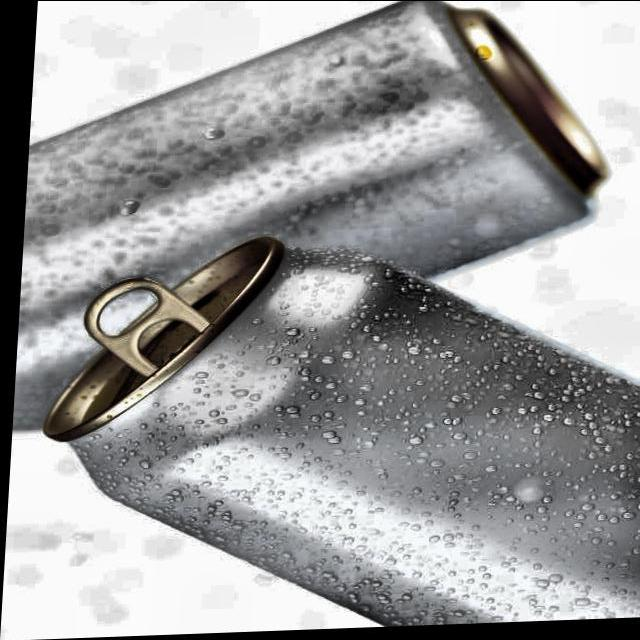litter: (9, 0, 614, 439), (19, 228, 640, 640)
